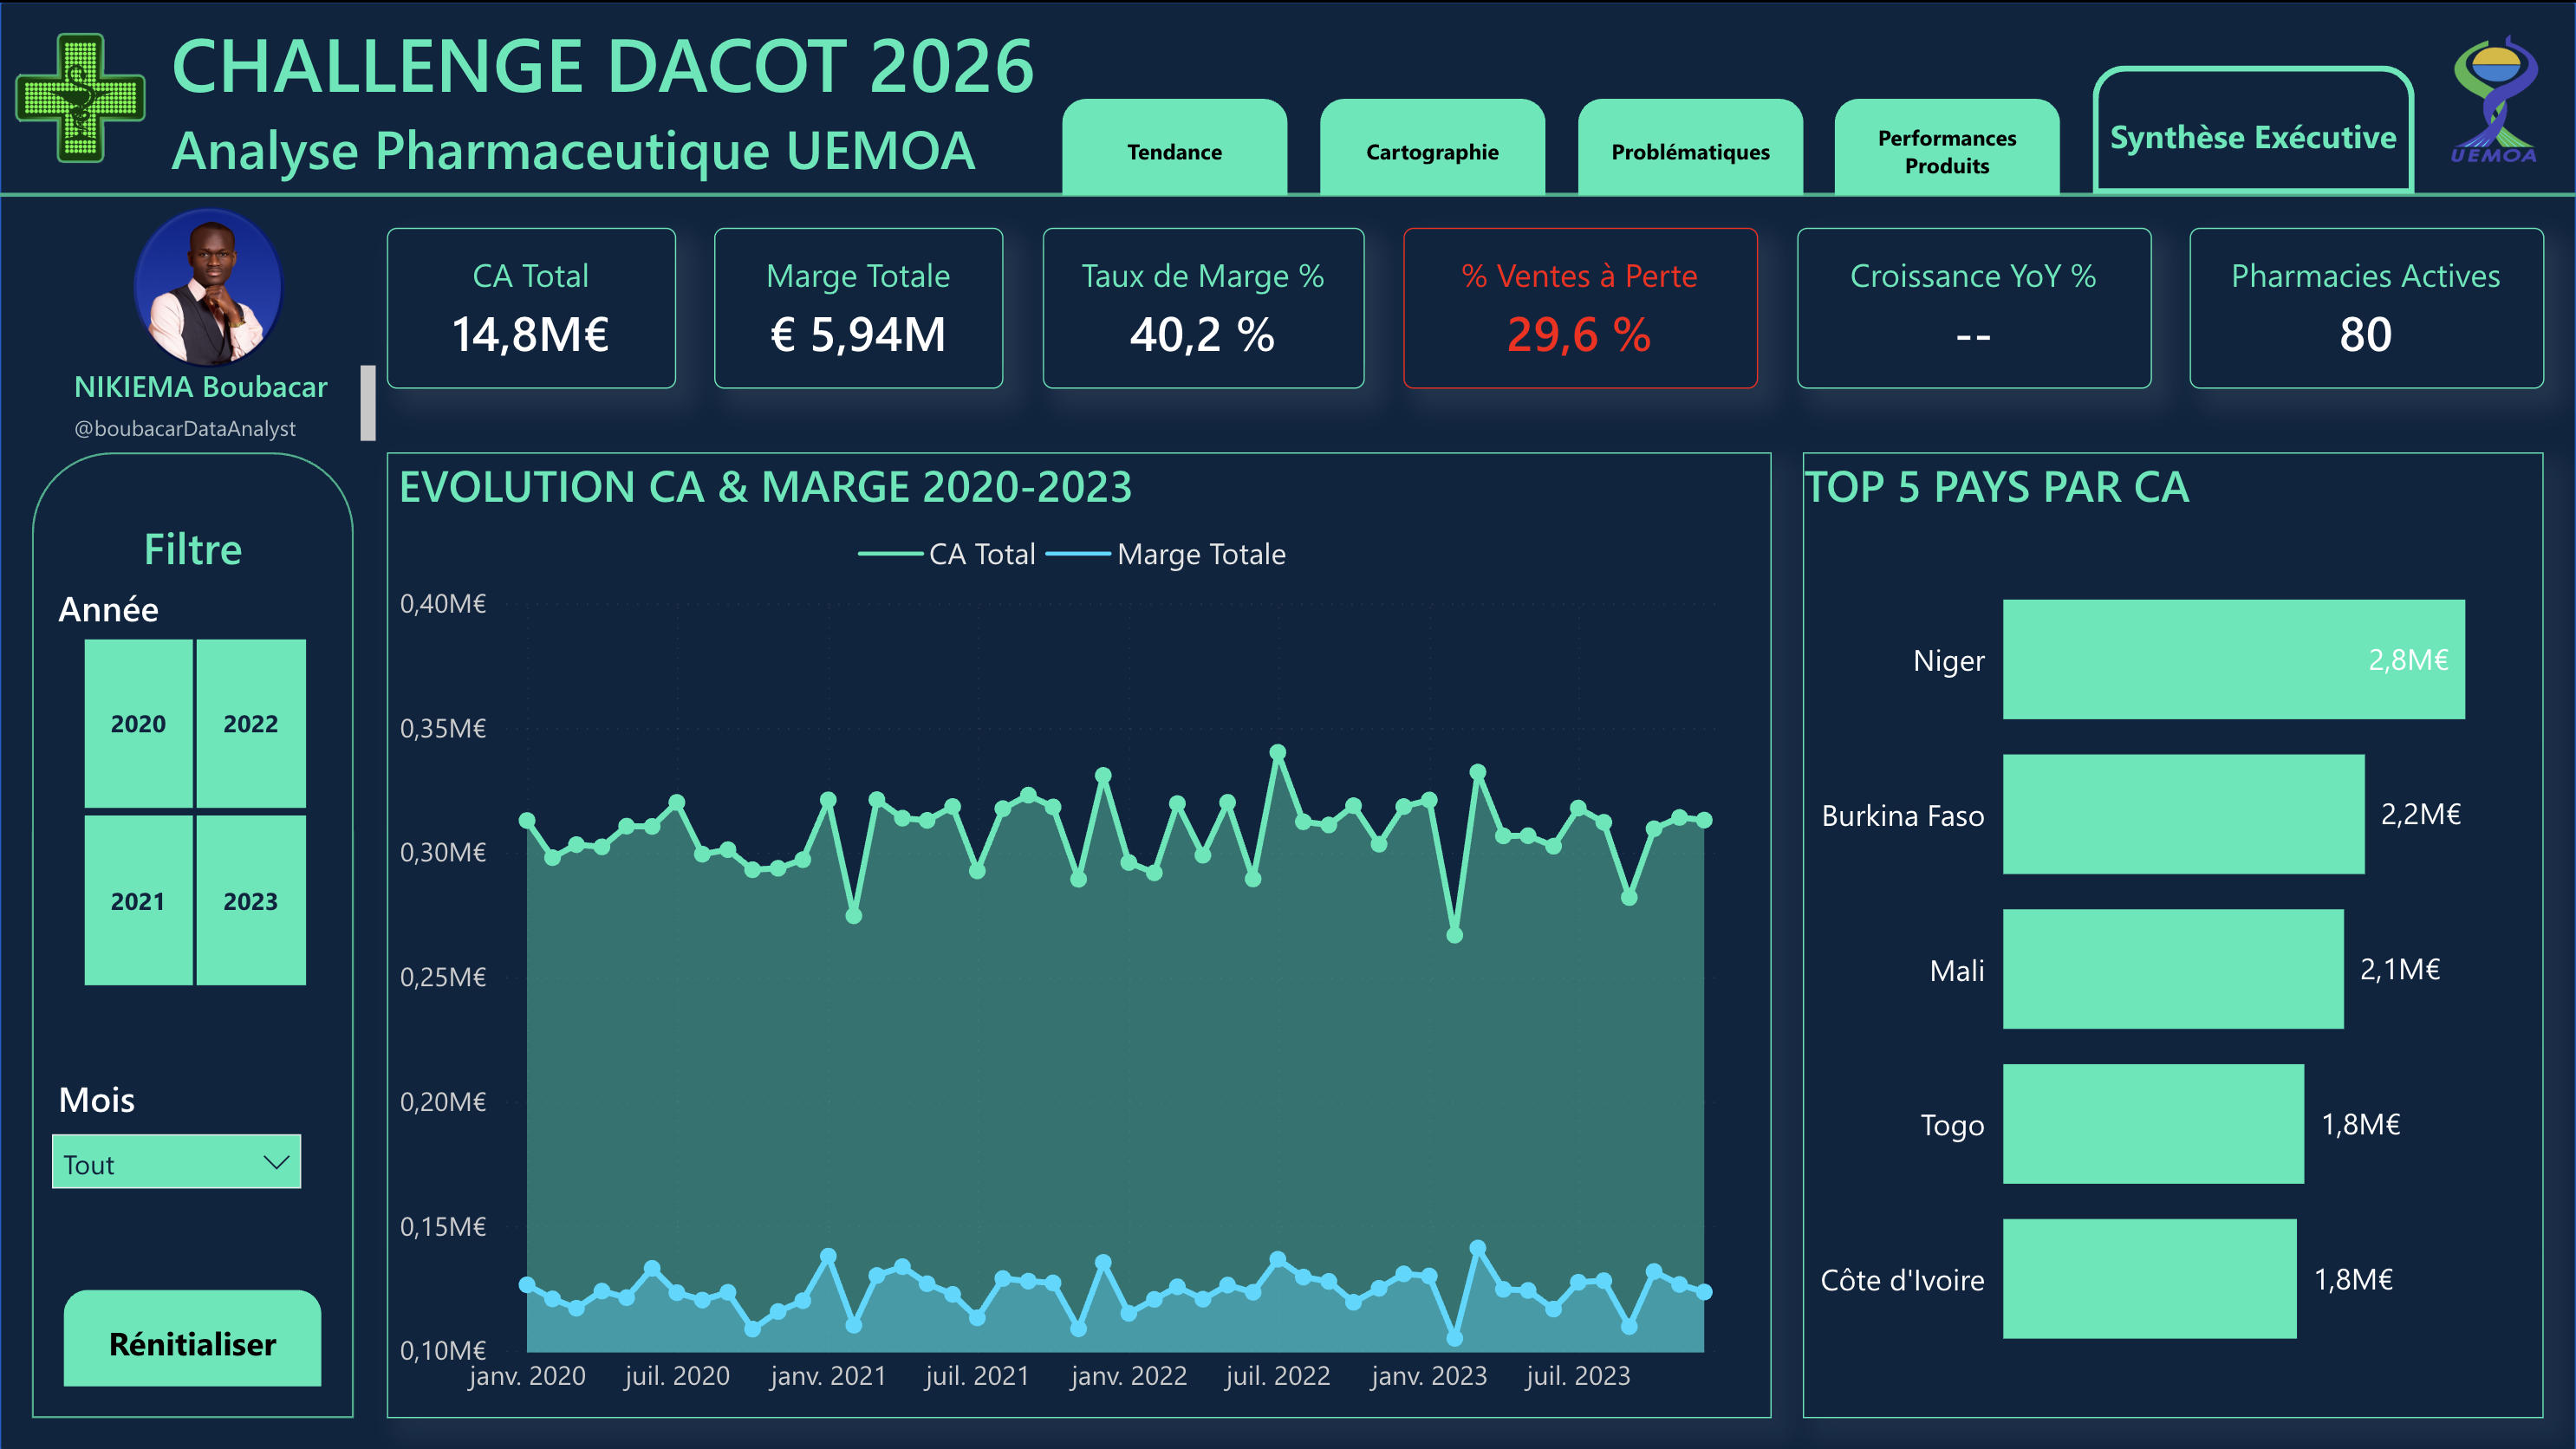

What the dashboard file says about the page in this screenshot:
{"tool":"powerbi","page":{"name":"Synthèse Exécutive","canvas":[1280,720],"ordinal":0},"visuals":[{"type":"textbox","box":[80,0,640,96],"z":0},{"type":"shape","box":[0,80,1280,32],"z":1000},{"type":"image","box":[0,0,80,96],"z":2000},{"type":"image","box":[1200,16,80,64],"z":3000},{"type":"actionButton","box":[1040,32,160,64],"z":4000},{"type":"actionButton","box":[528,48,112,48],"z":5000},{"type":"actionButton","box":[656,48,112,48],"z":6000},{"type":"actionButton","box":[784,48,112,48],"z":7000},{"type":"actionButton","box":[912,48,112,48],"z":8000},{"type":"shape","box":[16,224,160,480],"z":9000},{"type":"slicer","title":"Filtre","fields":{"Values":["DimDate.Annee"]},"box":[16,256,160,240],"z":10000},{"type":"cardVisual","fields":{"Data":["⚡ Mesures.Marge Totale"]},"box":[355.2,112,144,80],"z":11000},{"type":"cardVisual","fields":{"Data":["⚡ Mesures.CA Total"]},"box":[192,112,144,80],"z":12000},{"type":"cardVisual","fields":{"Data":["⚡ Mesures.Taux de Marge %"]},"box":[518.4,112,160,80],"z":13000},{"type":"cardVisual","fields":{"Data":["⚡ Mesures.Dernière Croissance"]},"box":[892.8,112,176,80],"z":14000},{"type":"cardVisual","fields":{"Data":["⚡ Mesures.% Ventes à Perte"]},"box":[697.6,112,176,80],"z":15000},{"type":"cardVisual","fields":{"Data":["⚡ Mesures.Nb Pharmacies"]},"box":[1088,112,176,80],"z":16000},{"type":"lineChart","title":"EVOLUTION CA & MARGE 2020-2023","fields":{"Category":["DimDate.Date.Variation.Hiérarchie de dates.Année","DimDate.Date.Variation.Hiérarchie de dates.Mois"],"Y":["⚡ Mesures.CA Total","⚡ Mesures.Marge Totale"]},"box":[192,224,688,480],"z":17000},{"type":"clusteredBarChart","title":"TOP 5 PAYS PAR CA","fields":{"Category":["DimPharmacie.Pays"],"Y":["⚡ Mesures.CA Total"]},"box":[896,224,368,480],"z":18000},{"type":"actionButton","box":[32,640,128,48],"z":19000},{"type":"image","box":[56,102,96,80],"z":20000},{"type":"textbox","box":[32,176,160,48],"z":21000},{"type":"slicer","title":"Filtre","fields":{"Values":["DimDate.Date.Variation.Hiérarchie de dates.Mois"]},"box":[16,528,144,80],"z":26000}]}

Visuals, with their boxes in screenshot pixels (x1, y1, x2, y2), scaled from the page's 1280x720 canvas onto the 2576x1449 screenshot:
textbox: [161, 0, 1449, 193]
shape: [0, 161, 2575, 225]
image: [0, 0, 161, 193]
image: [2415, 32, 2575, 161]
actionButton: [2093, 64, 2415, 193]
actionButton: [1063, 96, 1288, 193]
actionButton: [1320, 96, 1545, 193]
actionButton: [1577, 96, 1803, 193]
actionButton: [1836, 96, 2061, 193]
shape: [32, 451, 355, 1417]
"Filtre" slicer: [32, 515, 355, 998]
cardVisual - ⚡ Mesures.Marge Totale: [715, 225, 1005, 387]
cardVisual - ⚡ Mesures.CA Total: [387, 225, 676, 387]
cardVisual - ⚡ Mesures.Taux de Marge %: [1044, 225, 1365, 387]
cardVisual - ⚡ Mesures.Dernière Croissance: [1797, 225, 2151, 387]
cardVisual - ⚡ Mesures.% Ventes à Perte: [1404, 225, 1758, 387]
cardVisual - ⚡ Mesures.Nb Pharmacies: [2189, 225, 2544, 387]
"EVOLUTION CA & MARGE 2020-2023" lineChart: [387, 451, 1771, 1417]
"TOP 5 PAYS PAR CA" clusteredBarChart: [1803, 451, 2544, 1417]
actionButton: [64, 1288, 322, 1385]
image: [113, 205, 306, 367]
textbox: [64, 354, 387, 451]
"Filtre" slicer: [32, 1062, 322, 1224]
